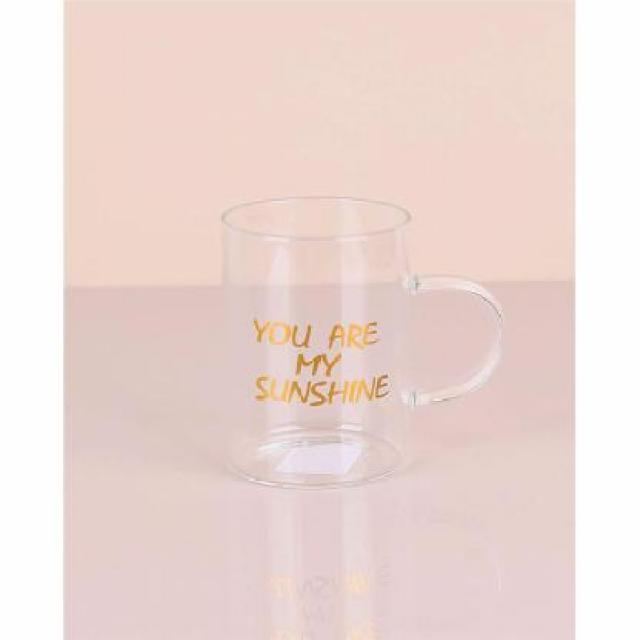taza: (183, 186, 521, 498)
